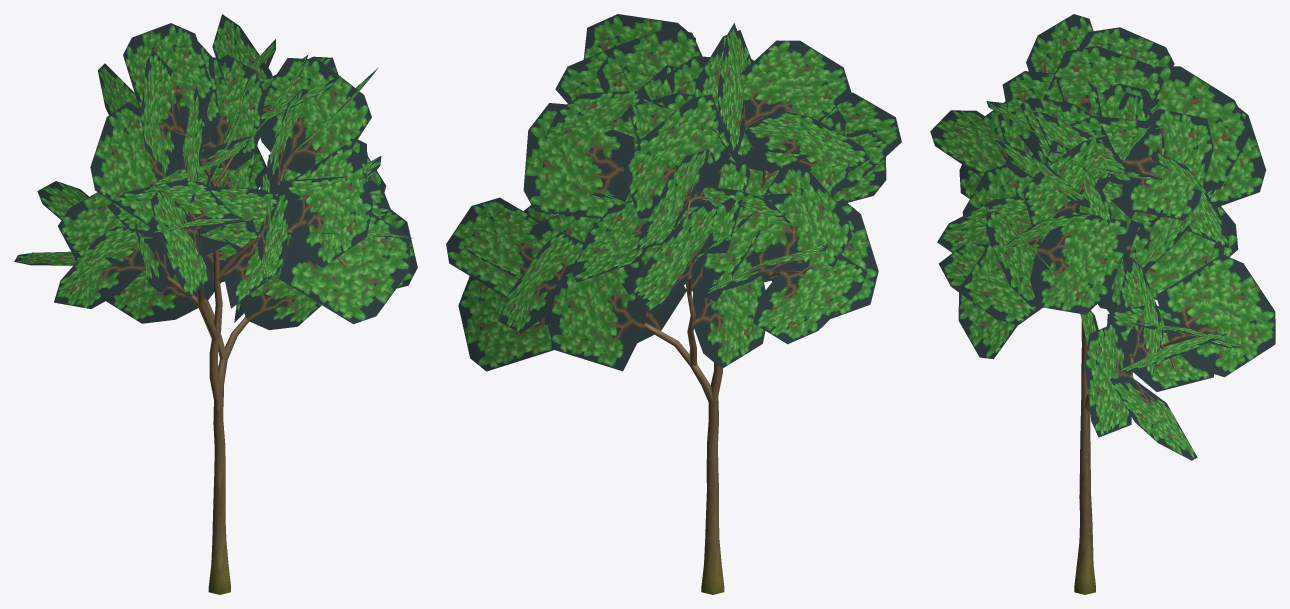
Rendered from tree_03.fbx.
3 renders of one model, left to right at view 1: azimuth 30°, elevation 25°; view 2: azimuth 150°, elevation 25°; view 3: azimuth 270°, elevation 25°, orthographic. The views are drawn at different scales.
Parts seen in each view (by area): view 1: tree_03_leaves, tree_03; view 2: tree_03_leaves, tree_03; view 3: tree_03_leaves, tree_03.
Boxes of the visible parts, left/top/right/bottom form: tree_03_leaves: left=14, top=14, right=417, bottom=330; tree_03: left=62, top=131, right=349, bottom=594; tree_03_leaves: left=446, top=14, right=901, bottom=371; tree_03: left=644, top=117, right=800, bottom=594; tree_03_leaves: left=930, top=14, right=1275, bottom=460; tree_03: left=1034, top=204, right=1199, bottom=594.
Size of the model in its own units: 520 by 725 by 415.
